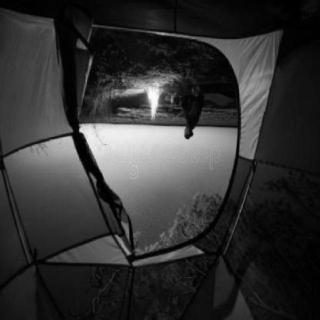Fire: (124, 71, 186, 161)
